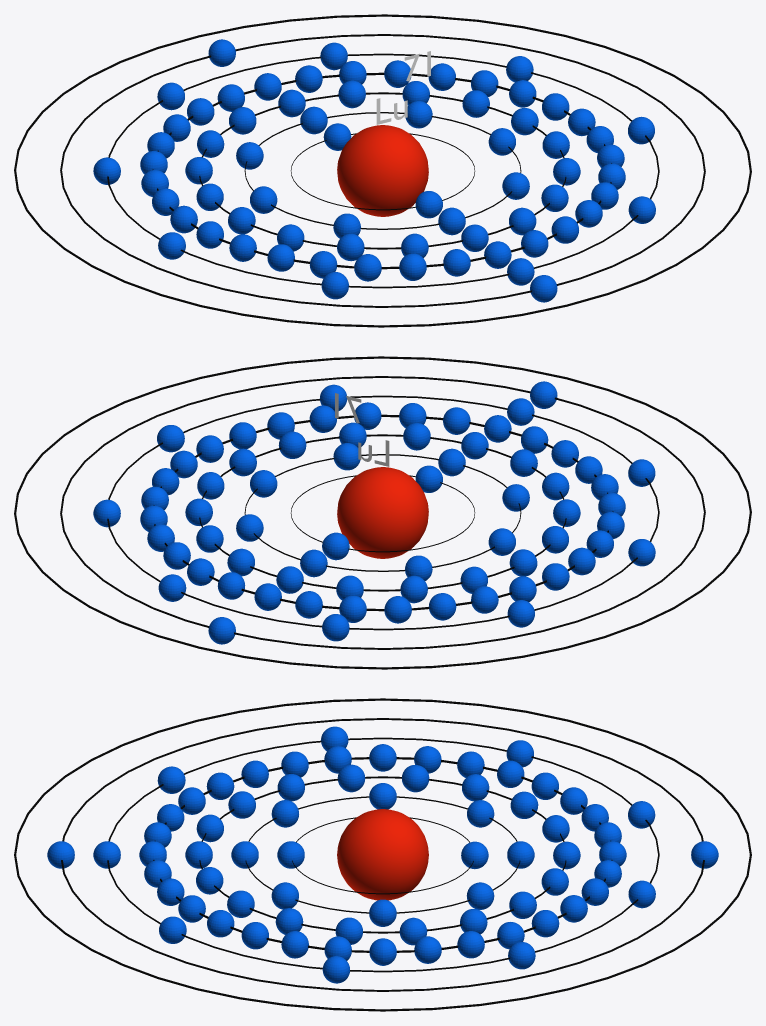
3 renders of one model, top to bottom at view 1: azimuth 30°, elevation 25°; view 2: azimuth 150°, elevation 25°; view 3: azimuth 270°, elevation 25°, orthographic.
Parts seen in each view (by area): view 1: Lu4, Lu3, Proton, Lu5, Lu2, n7, n6, n5, Lu6, Lu1, n3, n4 (+1 smaller); view 2: Lu4, Lu3, Proton, Lu5, Lu2, n7, n6, n5, Lu6, Lu1, n3, n4 (+1 smaller); view 3: Lu4, Lu3, Proton, Lu5, Lu2, n7, n6, n5, Lu1, Lu6, n3, n4 (+2 smaller).
Boxes of the visible parts, x1=… form: Lu4: x1=140, y1=60, x2=625, y2=281; Lu3: x1=185, y1=80, x2=580, y2=261; Proton: x1=337, y1=125, x2=428, y2=216; Lu5: x1=93, y1=42, x2=655, y2=299; Lu2: x1=236, y1=101, x2=529, y2=238; n7: x1=14, y1=14, x2=751, y2=327; n6: x1=60, y1=34, x2=705, y2=307; n5: x1=107, y1=53, x2=659, y2=288; Lu6: x1=208, y1=39, x2=557, y2=302; Lu1: x1=323, y1=123, x2=442, y2=218; n3: x1=199, y1=92, x2=566, y2=249; n4: x1=152, y1=72, x2=611, y2=269; Lu4: x1=140, y1=402, x2=625, y2=623; Lu3: x1=185, y1=422, x2=580, y2=603; Proton: x1=337, y1=467, x2=428, y2=558; Lu5: x1=93, y1=384, x2=655, y2=641; Lu2: x1=236, y1=443, x2=529, y2=580; n7: x1=14, y1=356, x2=751, y2=669; n6: x1=60, y1=376, x2=705, y2=649; n5: x1=107, y1=395, x2=659, y2=630; Lu6: x1=208, y1=381, x2=557, y2=644; Lu1: x1=322, y1=465, x2=442, y2=560; n3: x1=199, y1=434, x2=566, y2=591; n4: x1=153, y1=414, x2=613, y2=611; Lu4: x1=139, y1=744, x2=626, y2=965; Lu3: x1=185, y1=764, x2=580, y2=945; Proton: x1=337, y1=809, x2=428, y2=900; Lu5: x1=93, y1=726, x2=655, y2=983; Lu2: x1=231, y1=783, x2=534, y2=926; n7: x1=14, y1=698, x2=751, y2=1011; n6: x1=61, y1=718, x2=704, y2=991; n5: x1=107, y1=737, x2=659, y2=972; Lu1: x1=277, y1=841, x2=488, y2=869; Lu6: x1=47, y1=841, x2=718, y2=868; n3: x1=199, y1=776, x2=566, y2=933; n4: x1=153, y1=757, x2=612, y2=952.
Bounding box in the file's own units: 802 × 180 × 802.
